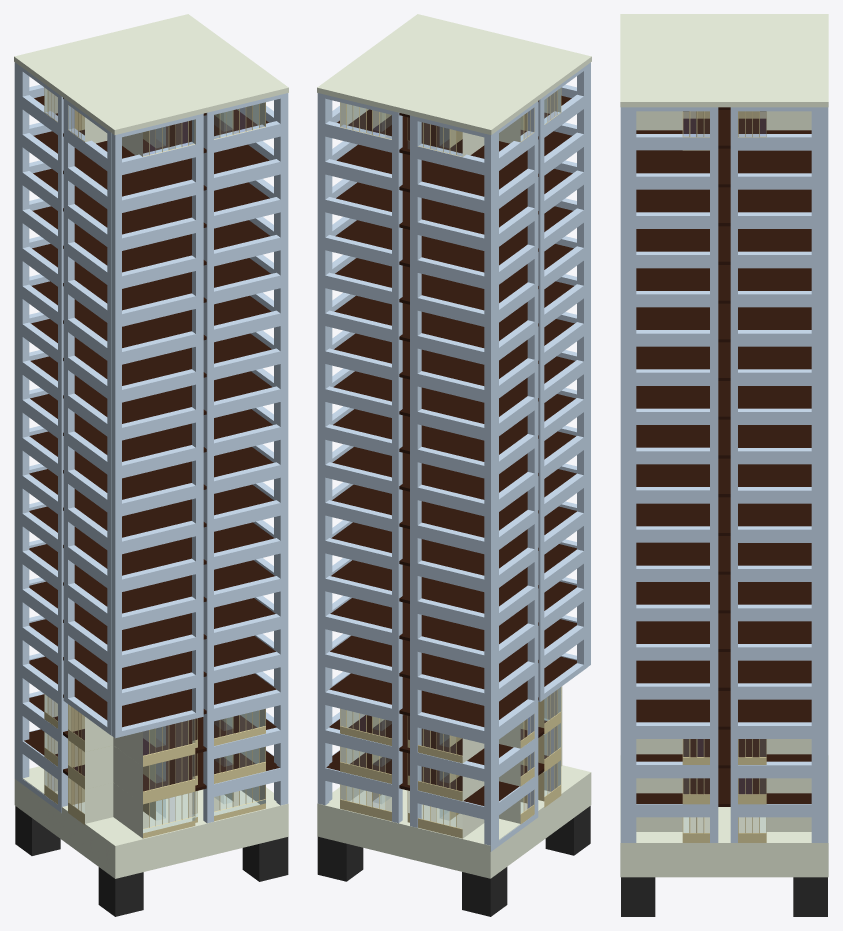
3 views of the same model, side by side, from view 1: azimuth 30°, elevation 25°; view 2: azimuth 150°, elevation 25°; view 3: azimuth 270°, elevation 25° (orthographic). The views are drawn at different scales.
Parts seen in each view (by area): view 1: floors, Cube.006, Cube.005, Cube.008, floor16, Cube.009, toproof, Cube.001, Cube.007, Cube.012, Cube.013, Cube (+1 smaller); view 2: floors, Cube.004, Cube.007, Cube.008, Cube.009, toproof, floor16, Cube.001, Cube.005, Cube.010, Cube.002, Cube.003 (+1 smaller); view 3: floors, Cube.012, Cube.010, toproof, floor16, Cube.001, Cube.004, Cube.006, Cube, Cube.003.
Part boxes in pixels (x1,y1,x2,y2): floors: [24, 96, 279, 791]; Cube.006: [203, 93, 288, 823]; Cube.005: [111, 113, 203, 738]; Cube.008: [18, 65, 67, 812]; floor16: [44, 87, 265, 838]; Cube.009: [63, 98, 111, 734]; toproof: [14, 14, 288, 134]; Cube.001: [14, 766, 288, 878]; Cube.007: [14, 62, 51, 780]; Cube.012: [248, 99, 276, 801]; Cube.013: [98, 867, 143, 916]; Cube: [242, 837, 288, 881]; floors: [326, 95, 576, 805]; Cube.004: [317, 93, 402, 823]; Cube.007: [410, 115, 494, 851]; Cube.008: [495, 101, 538, 848]; Cube.009: [538, 65, 587, 701]; toproof: [317, 14, 591, 134]; floor16: [340, 88, 562, 838]; Cube.001: [317, 765, 591, 878]; Cube.005: [554, 62, 590, 666]; Cube.010: [329, 99, 357, 800]; Cube.002: [462, 867, 507, 916]; Cube.003: [317, 836, 363, 881]; floors: [636, 107, 811, 806]; Cube.012: [628, 107, 718, 842]; Cube.010: [730, 107, 820, 842]; toproof: [620, 14, 828, 107]; floor16: [636, 111, 811, 842]; Cube.001: [620, 755, 828, 877]; Cube.004: [820, 107, 828, 842]; Cube.006: [620, 107, 628, 842]; Cube: [621, 877, 655, 916]; Cube.003: [793, 877, 827, 916].
Bounding box in the file's own units: 6.04 × 26.09 × 6.04.
